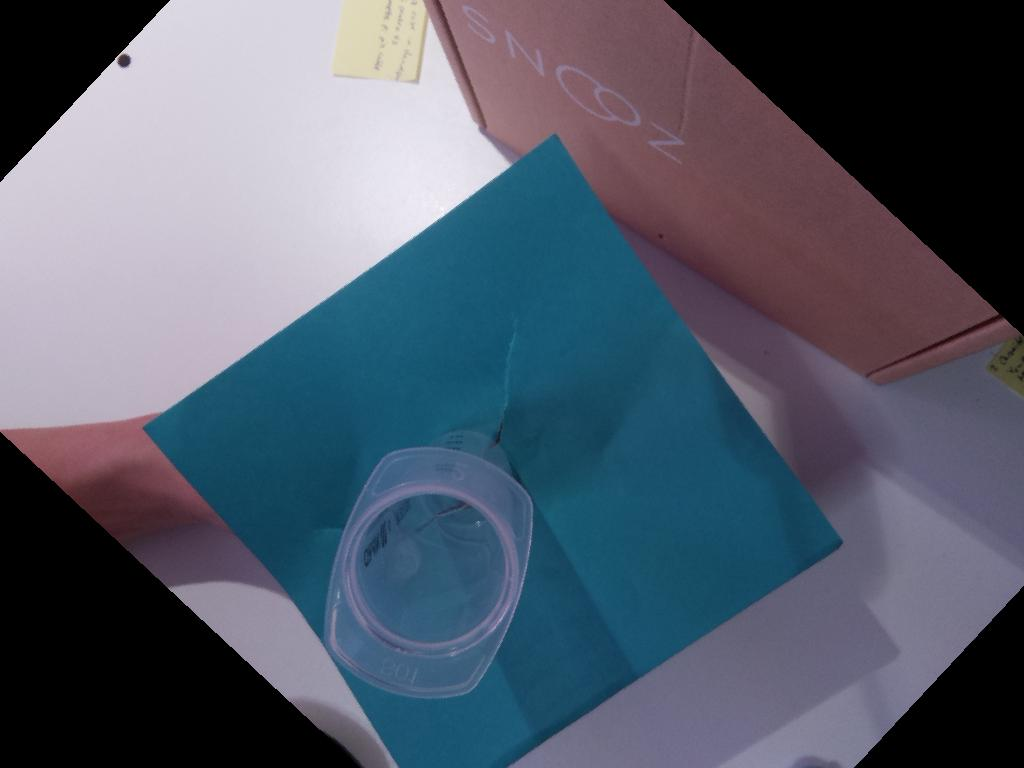clean: (323, 447, 536, 697)
